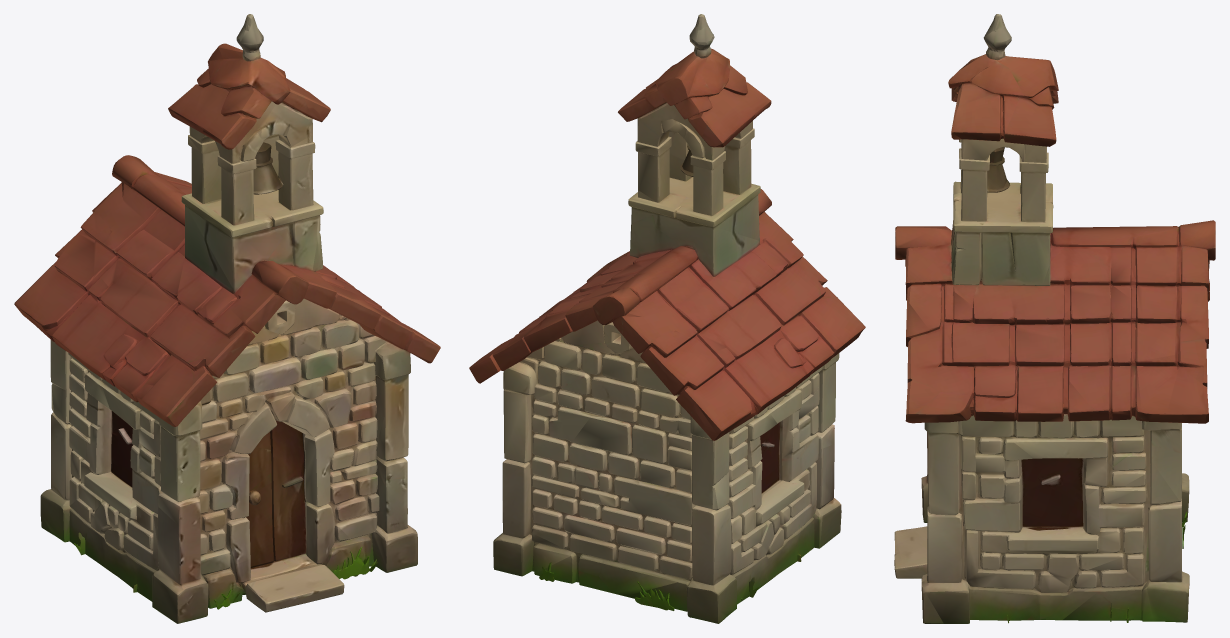
3 views of the same model, side by side, from view 1: azimuth 30°, elevation 25°; view 2: azimuth 150°, elevation 25°; view 3: azimuth 270°, elevation 25° (orthographic). The views are drawn at different scales.
Visible parts, largest first — view 1: model; view 2: model; view 3: model.
Boxes of the visible parts, x1,y1,x2,y2 form: model: (14, 14, 440, 623); model: (469, 14, 865, 623); model: (894, 14, 1215, 623).
Size of the model in its own units: 0.9883 by 1.9 by 1.01.
1 material, 1 textured.
